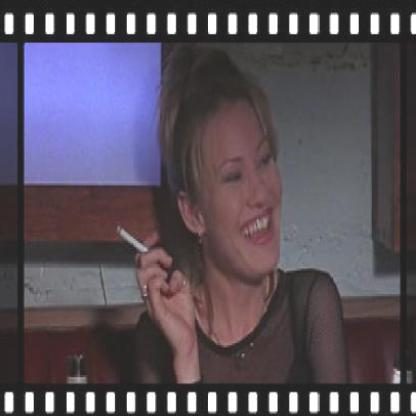cigarette: (114, 221, 150, 256)
person: (146, 53, 292, 396)
